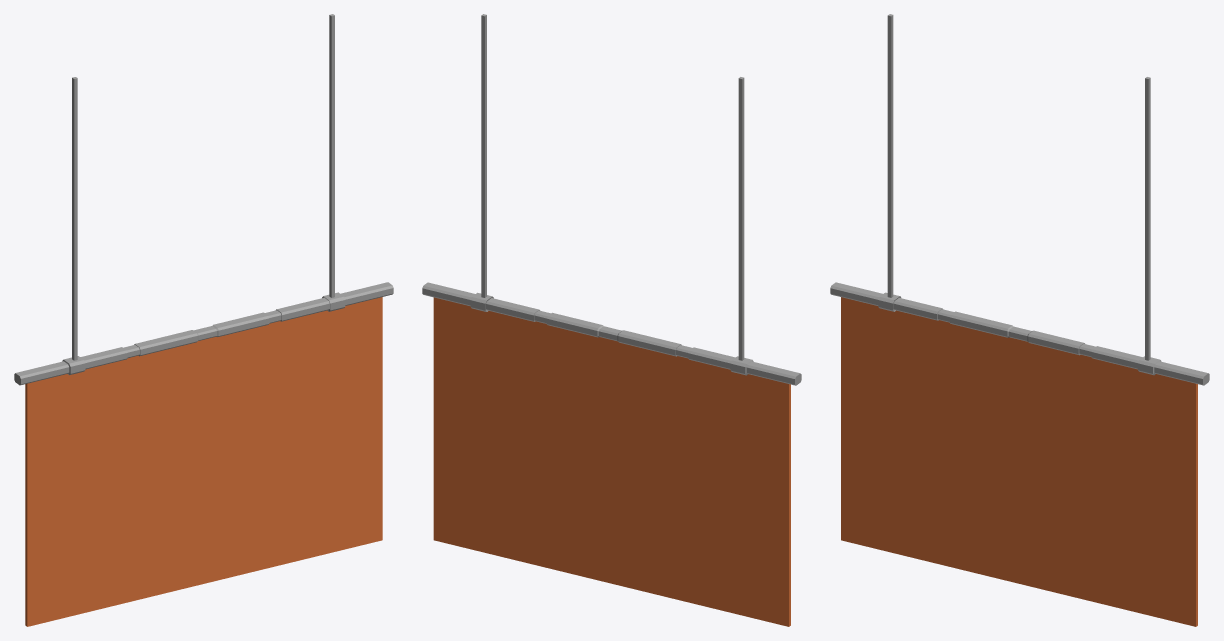
The model's file is score_screen.fbx.
3 renders of one model, left to right at view 1: azimuth 30°, elevation 25°; view 2: azimuth 150°, elevation 25°; view 3: azimuth 330°, elevation 25°, orthographic.
Visible parts, largest first — view 1: screen, pole, wires; view 2: screen, pole, wires; view 3: screen, pole, wires.
Part boxes in pixels (bbox=[...]): screen: bbox=[25, 297, 382, 626]; pole: bbox=[14, 282, 393, 385]; wires: bbox=[72, 14, 334, 360]; screen: bbox=[433, 297, 790, 626]; pole: bbox=[422, 282, 801, 385]; wires: bbox=[481, 14, 744, 360]; screen: bbox=[841, 297, 1197, 626]; pole: bbox=[830, 282, 1209, 385]; wires: bbox=[887, 14, 1150, 360].
Bounding box in the file's own units: 604 × 830 × 23.28.
